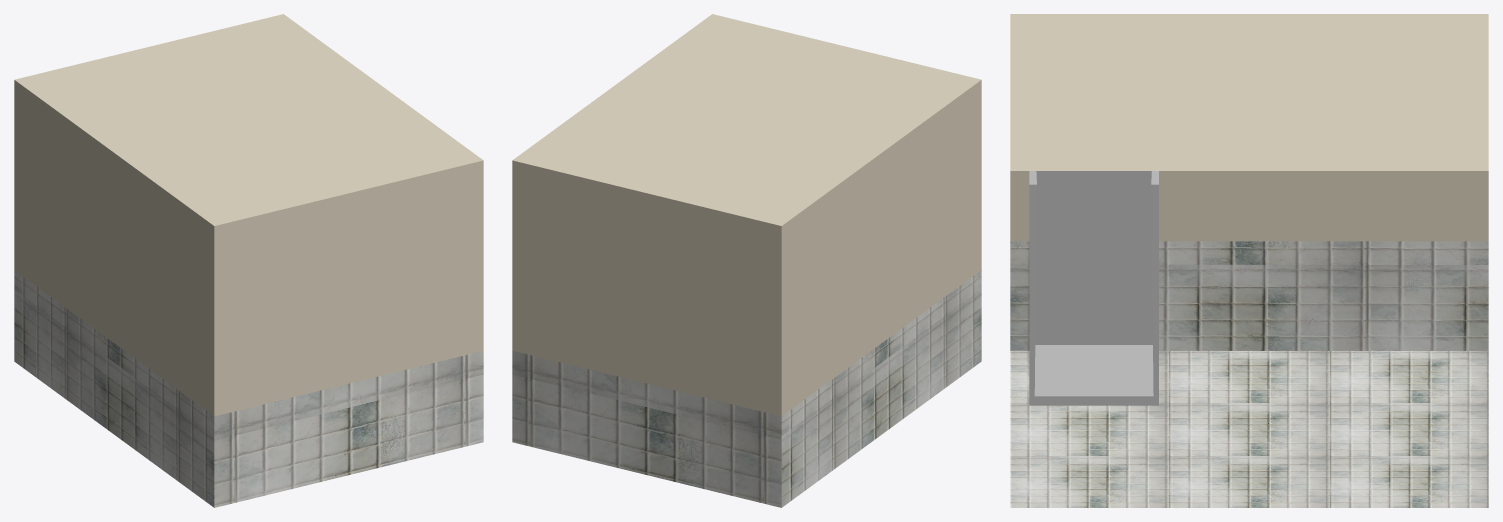
File: FinalROOM.fbx
3 views of the same model, side by side, from view 1: azimuth 30°, elevation 25°; view 2: azimuth 150°, elevation 25°; view 3: azimuth 270°, elevation 25° (orthographic). The views are drawn at different scales.
Parts seen in each view (by area): view 1: Cube; view 2: Cube; view 3: Cube, Cube.001.
Boxes of the visible parts, x1,y1,x2,y2 form: Cube: (14,14,483,507); Cube: (512,14,981,507); Cube: (1010,14,1488,507); Cube.001: (1029,171,1158,405).
Size of the model in its own units: 183 by 183 by 235.
